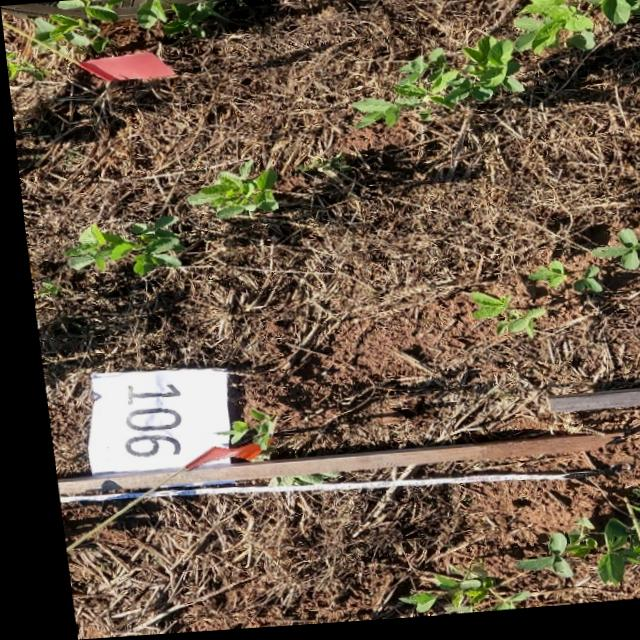soy_plant: (350, 0, 638, 132), (503, 497, 640, 593), (0, 0, 215, 60), (60, 219, 172, 277), (385, 573, 514, 619), (182, 165, 271, 221), (462, 297, 536, 344), (584, 237, 640, 277), (520, 268, 593, 298), (212, 411, 265, 452), (4, 44, 41, 80)
